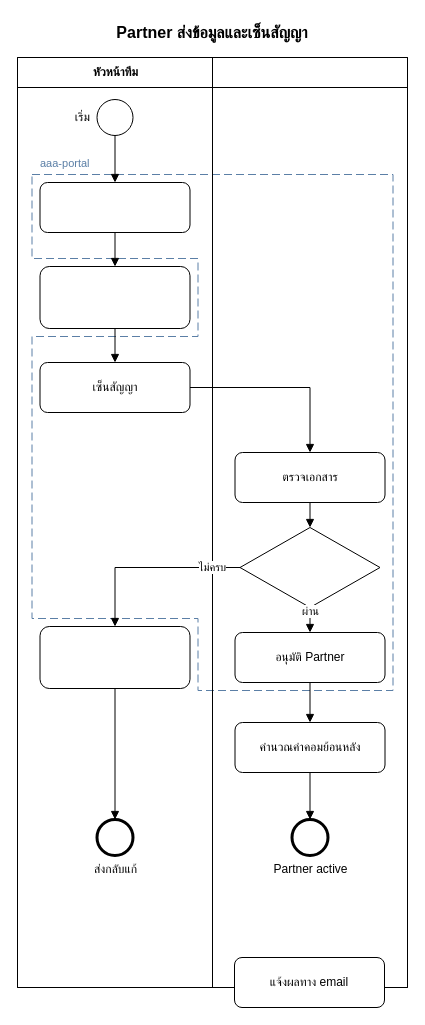
This 425x1025 diagram has some shape labels left out. The box of each missing label's shape, as (x1, y1, x2, y2) in pixels:
Admin: (212, 56, 408, 988)
กรอกข้อมูลบริษัท: (39, 182, 190, 232)
บอกสิ่งที่ต้องแก้ นอกระบบ · โทร หรือ LINE: (39, 626, 190, 688)
ผ่านไหม: (239, 526, 380, 608)
ส่งเอกสารตัวจริง นอกระบบ · ไปรษณีย์: (39, 266, 190, 328)
